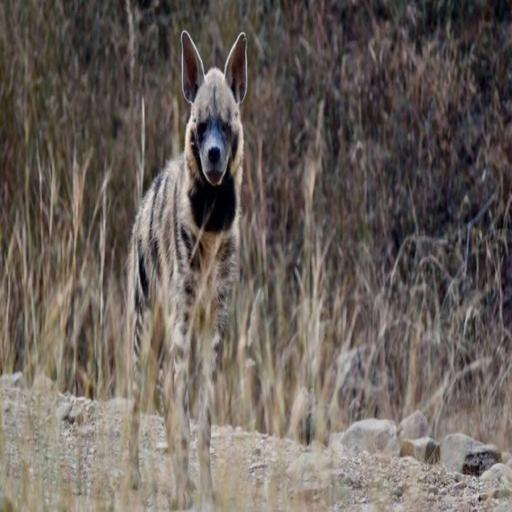Hyena: (134, 27, 269, 409)
